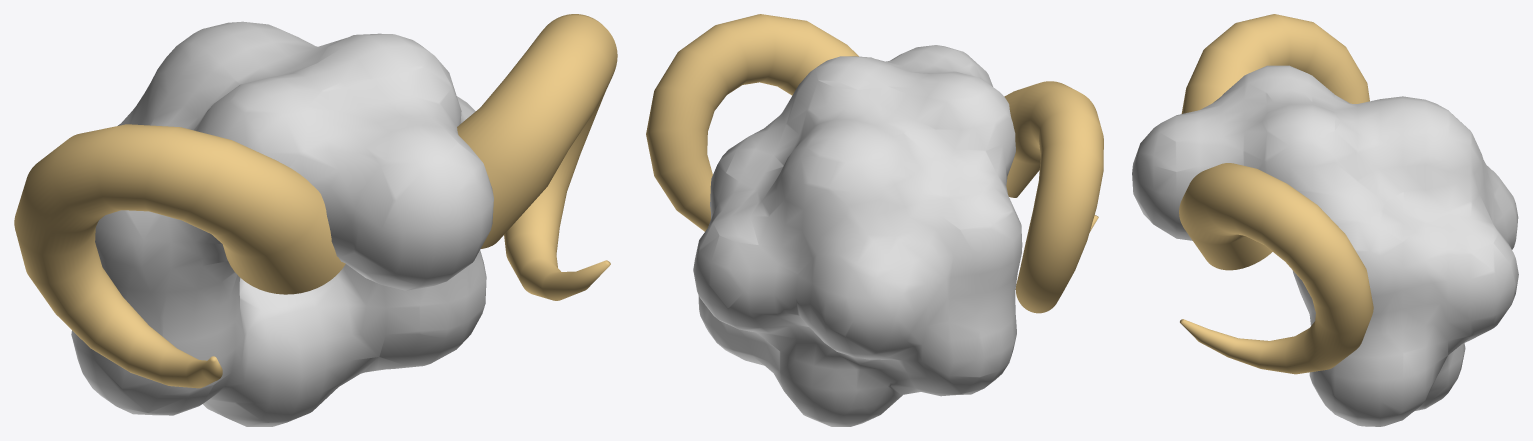
The model's file is sheepHat.fbx.
3 renders of one model, left to right at view 1: azimuth 30°, elevation 25°; view 2: azimuth 150°, elevation 25°; view 3: azimuth 270°, elevation 25°, orthographic. The views are drawn at different scales.
Visible parts, largest first — view 1: SheepHat; view 2: SheepHat; view 3: SheepHat.
Part boxes in pixels (left/top/right/bottom): SheepHat: left=14, top=14, right=617, bottom=426; SheepHat: left=646, top=14, right=1103, bottom=426; SheepHat: left=1132, top=14, right=1518, bottom=426.
Size of the model in its own units: 70.66 by 48.52 by 53.84.
